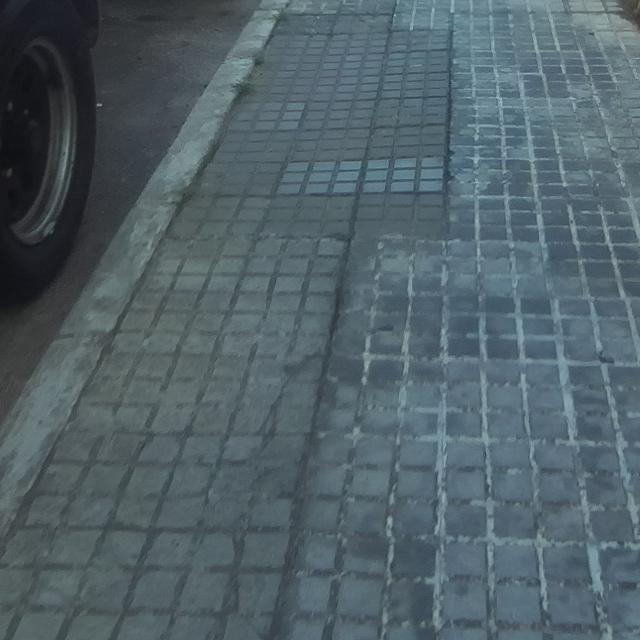calcada_quebrada: (205, 530, 282, 638), (246, 352, 325, 438)
